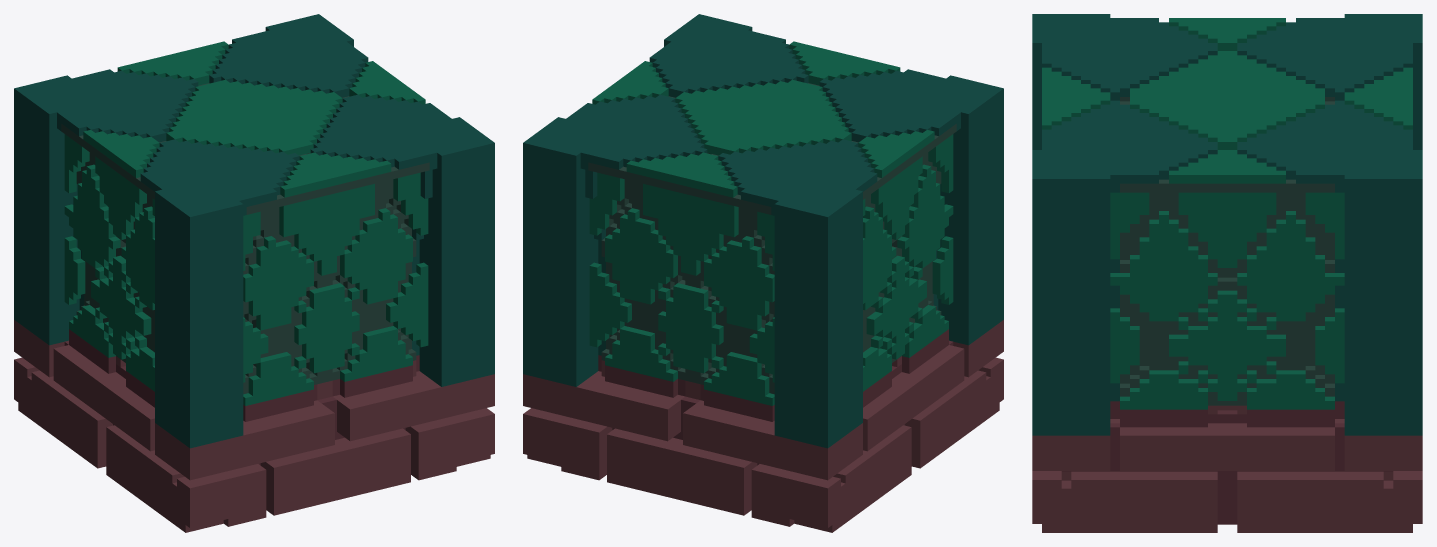
File: wall4.vox.obj
3 renders of one model, left to right at view 1: azimuth 30°, elevation 25°; view 2: azimuth 150°, elevation 25°; view 3: azimuth 270°, elevation 25°, orthographic. The views are drawn at different scales.
Bounding box in the file's own units: 4 × 4 × 4.
Materials: 1 (1 with a texture image).
